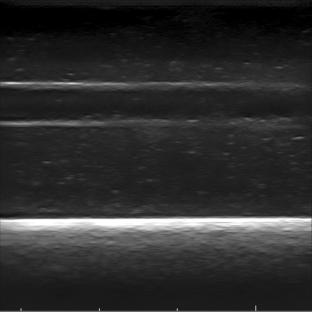vessel: (0, 80, 205, 130)
